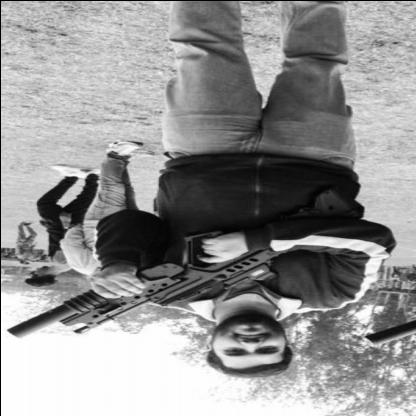rifle: (4, 184, 366, 339)
